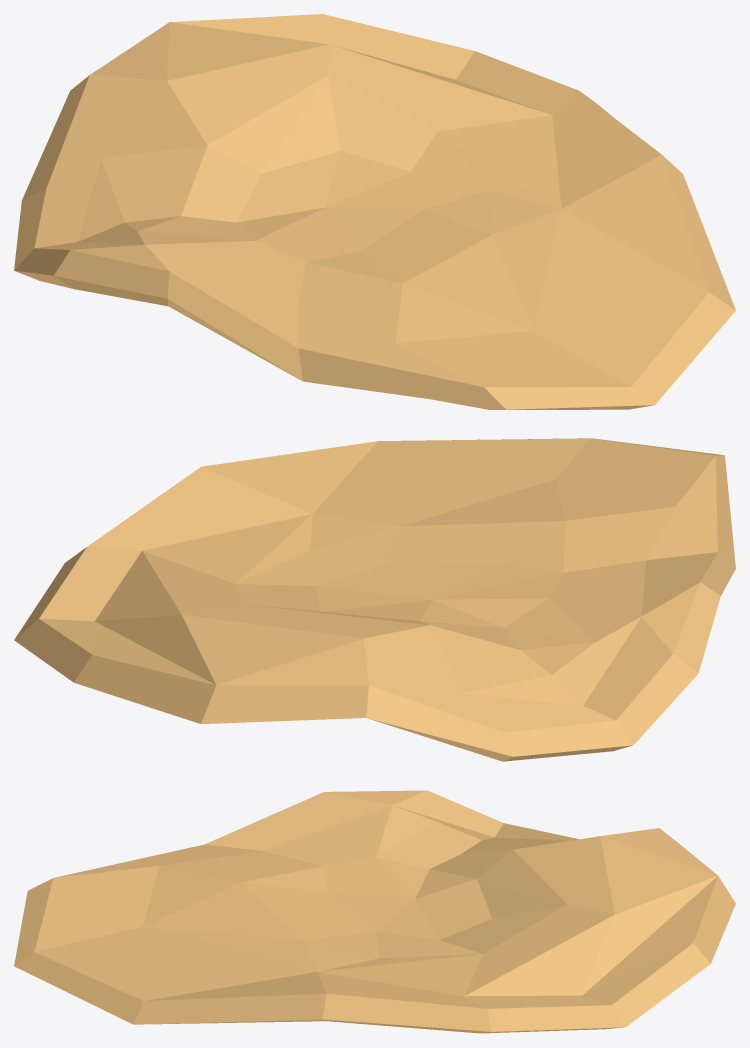
The model's file is Coral01.fbx.
3 views of the same model, one above another, from view 1: azimuth 30°, elevation 25°; view 2: azimuth 150°, elevation 25°; view 3: azimuth 270°, elevation 25° (orthographic). The views are drawn at different scales.
Visible parts, largest first — view 1: Coral01; view 2: Coral01; view 3: Coral01.
Boxes of the visible parts, box(x1,y1,x2,y2) form: Coral01: box(14, 14, 735, 409); Coral01: box(14, 438, 735, 761); Coral01: box(14, 790, 735, 1033).
Size of the model in its own units: 3.05 by 0.5479 by 3.97.
